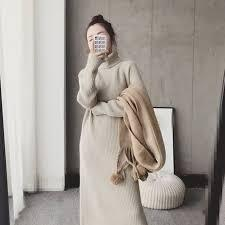dress: (79, 48, 144, 224)
